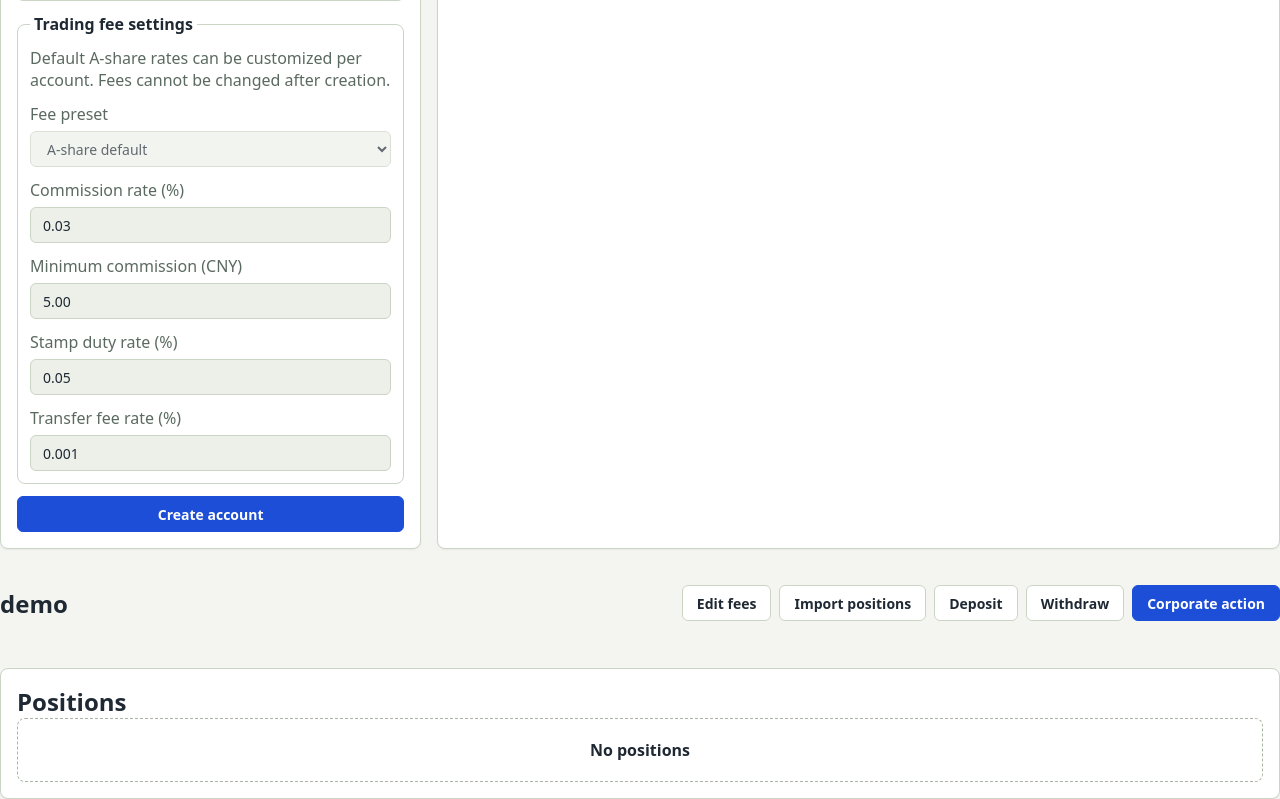
it: AccountsPage › shows validation errors without sending an empty patch
(page scrolled)
Click the button "Edit fees".
click(727, 603)  # box x1=682 y1=585 x2=772 y2=621
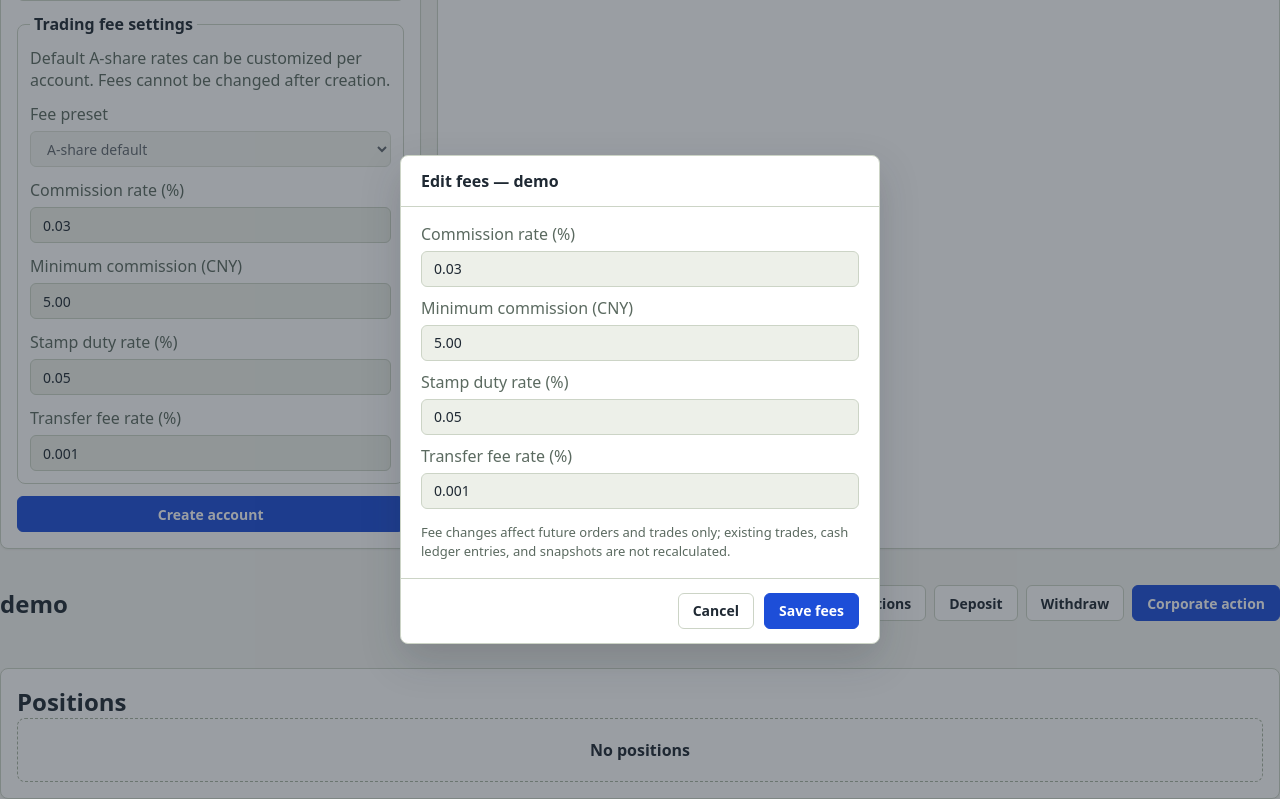
Click the button "Save fees".
click(812, 610)  # box x1=764 y1=592 x2=859 y2=628
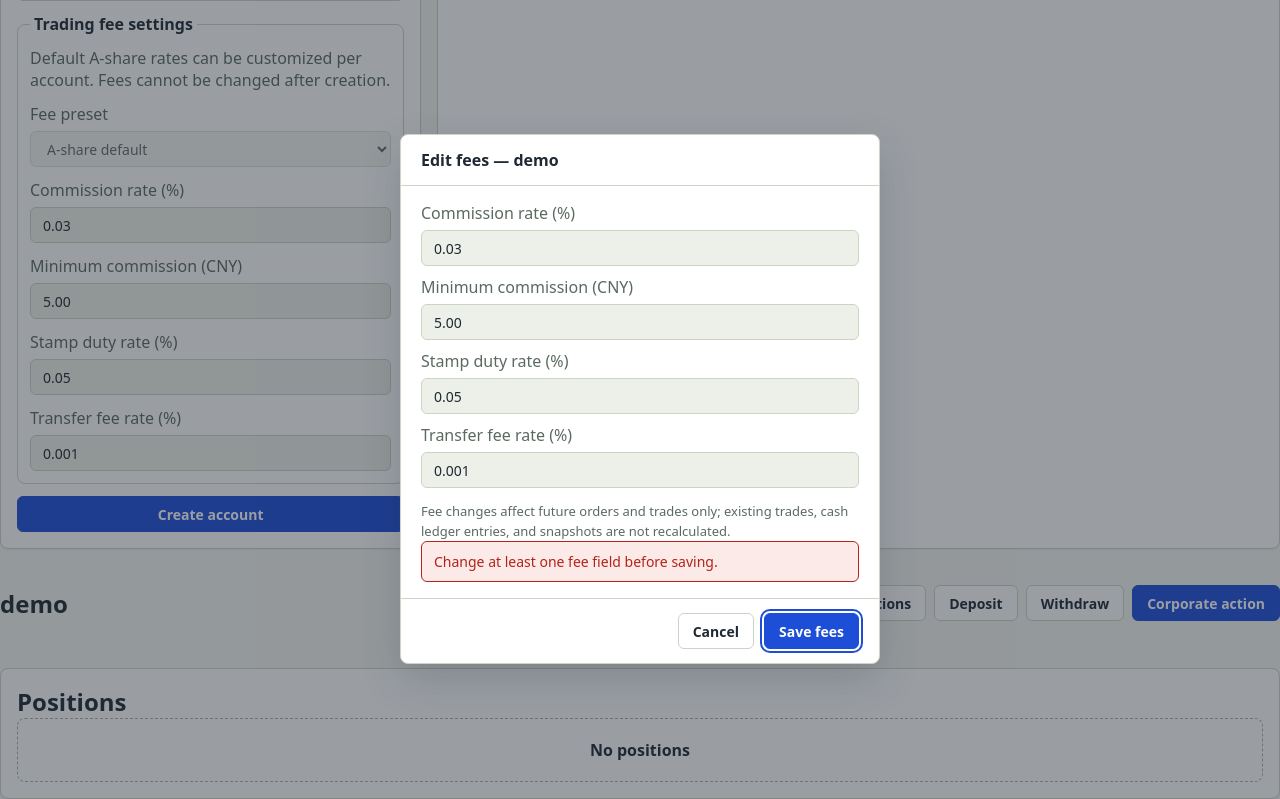
Expected: the message reads "Change at least one fee field before saving.", x1=434 y1=552 x2=718 y2=571
